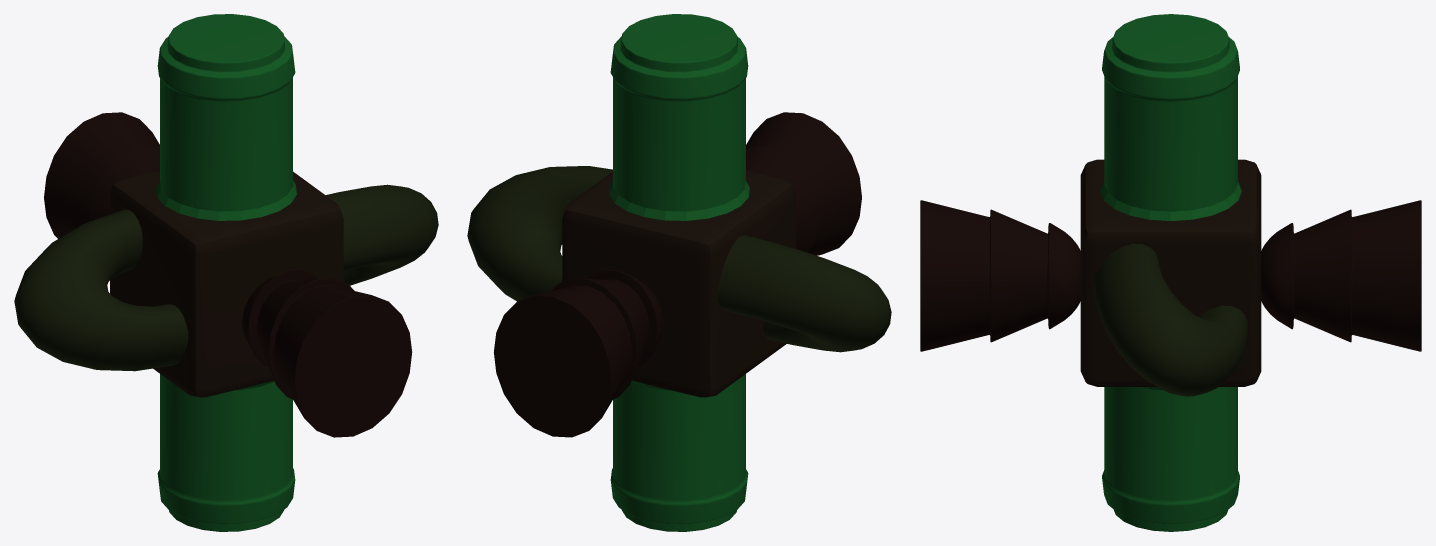
3 views of the same model, side by side, from view 1: azimuth 30°, elevation 25°; view 2: azimuth 150°, elevation 25°; view 3: azimuth 270°, elevation 25° (orthographic).
Parts seen in each view (by area): view 1: pCylinder3; view 2: pCylinder3; view 3: pCylinder3.
Boxes of the visible parts, <box> form: pCylinder3: <box>14,14,438,531</box>; pCylinder3: <box>467,14,891,531</box>; pCylinder3: <box>920,14,1421,531</box>.
Size of the model in its own units: 2.64 by 2.87 by 2.78.
